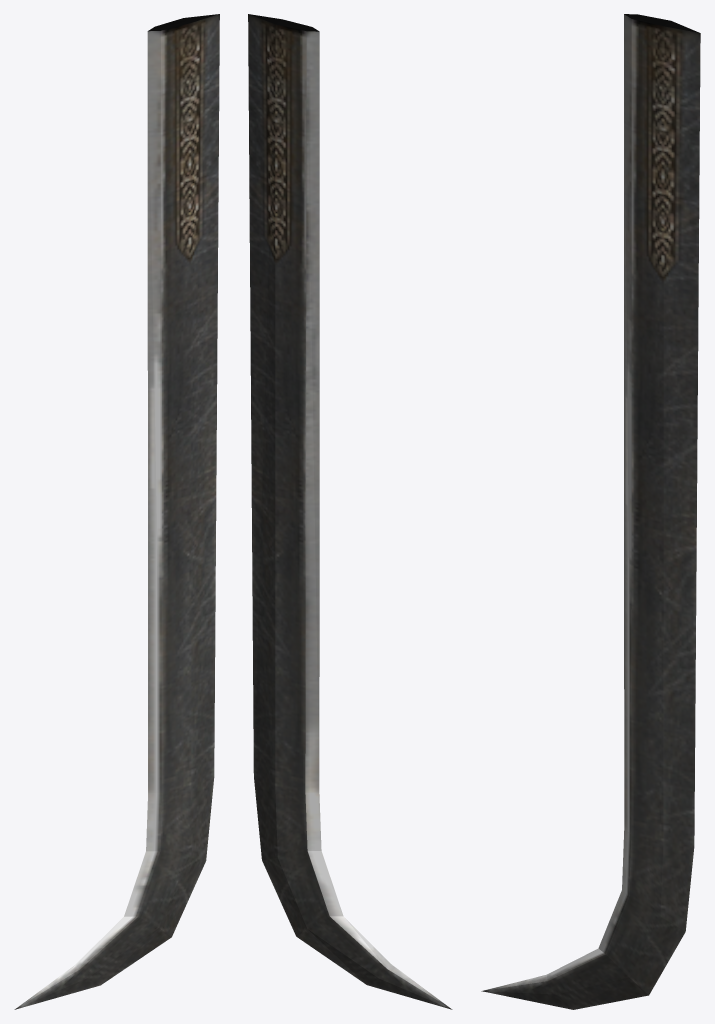
Rendered from Nirendao_body.FBX.
3 renders of one model, left to right at view 1: azimuth 30°, elevation 25°; view 2: azimuth 150°, elevation 25°; view 3: azimuth 330°, elevation 25°, orthographic. The views are drawn at different scales.
Parts seen in each view (by area): view 1: Nirendao_body; view 2: Nirendao_body; view 3: Nirendao_body.
Part boxes in pixels (bbox=[...]): Nirendao_body: bbox=[14, 14, 219, 1009]; Nirendao_body: bbox=[248, 14, 452, 1009]; Nirendao_body: bbox=[481, 14, 700, 1009].
Size of the model in its own units: 26.16 by 115 by 1.82.
1 material, 1 textured.
